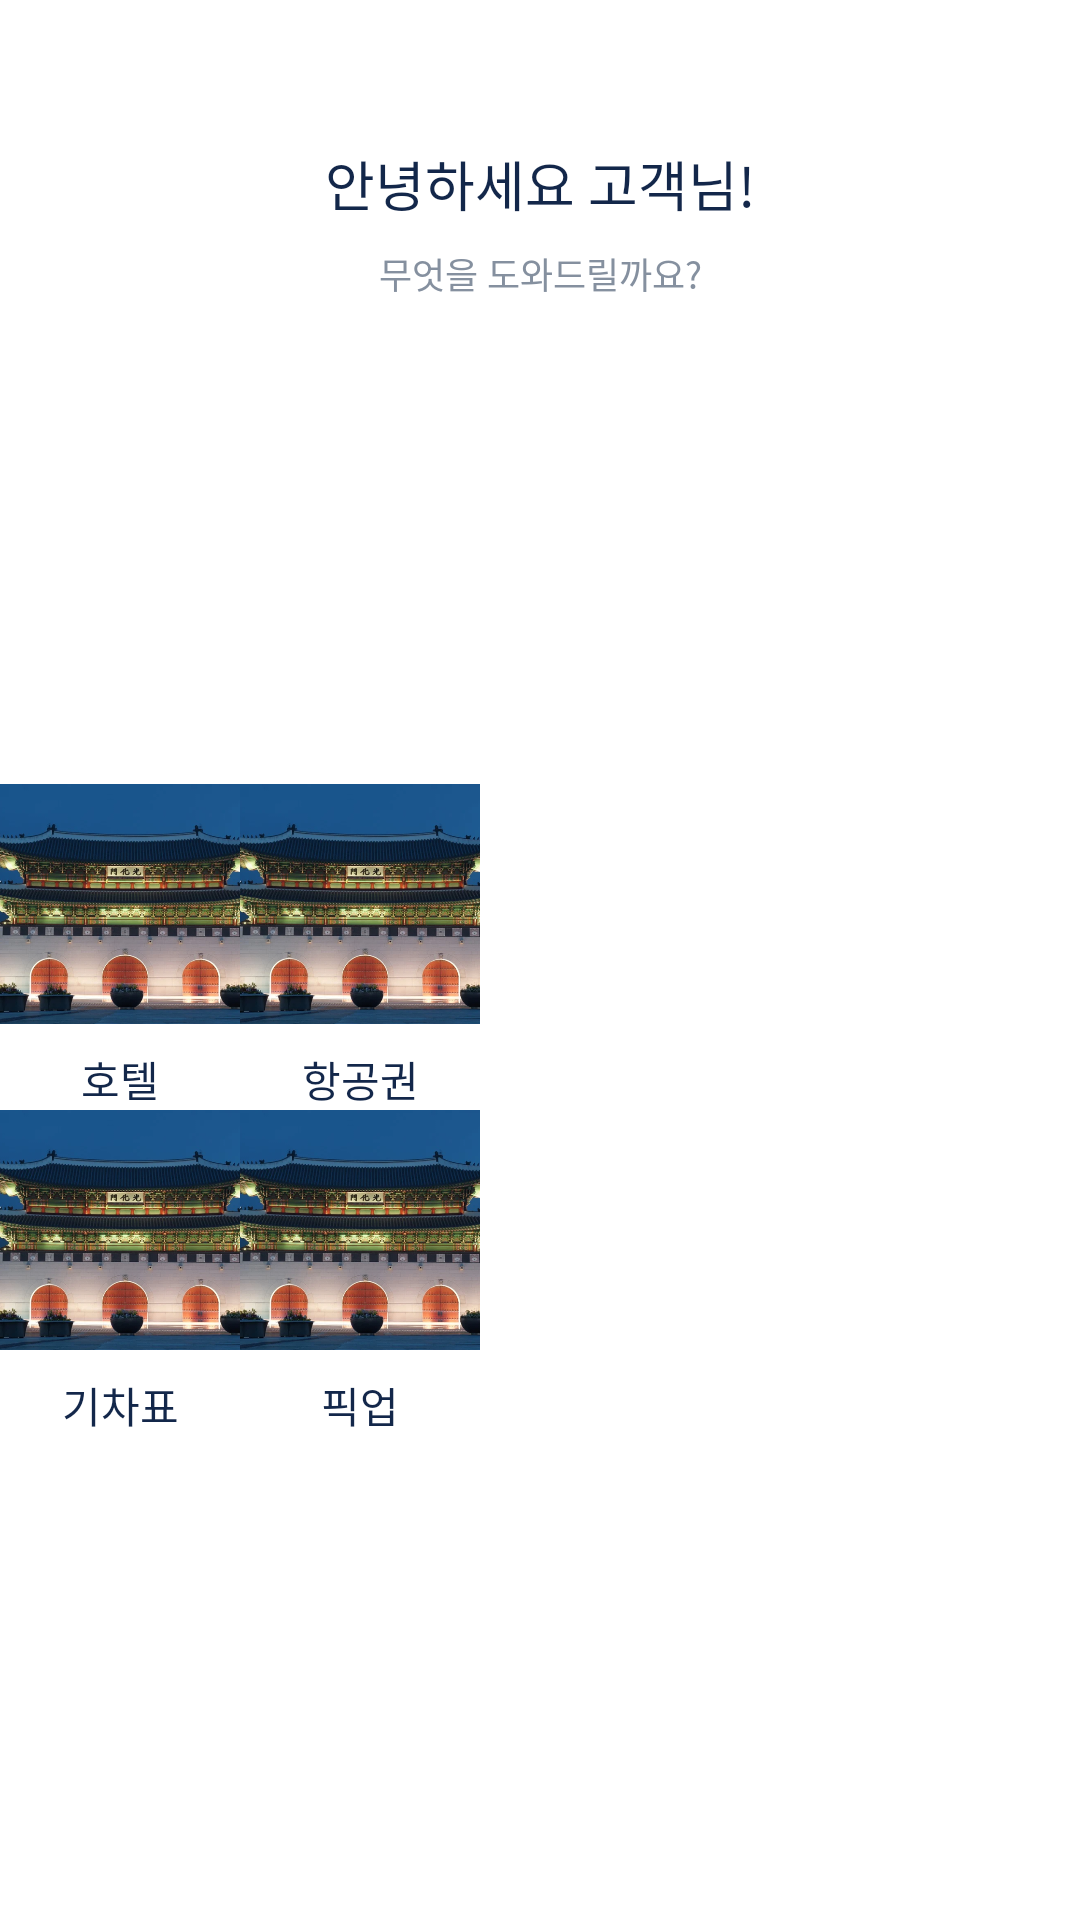

Icon click points for this 1080 x 1920 phone screenshot, format point (x, y):
populars seoul: point (120, 904), point (360, 904), point (120, 1230), point (360, 1230)
